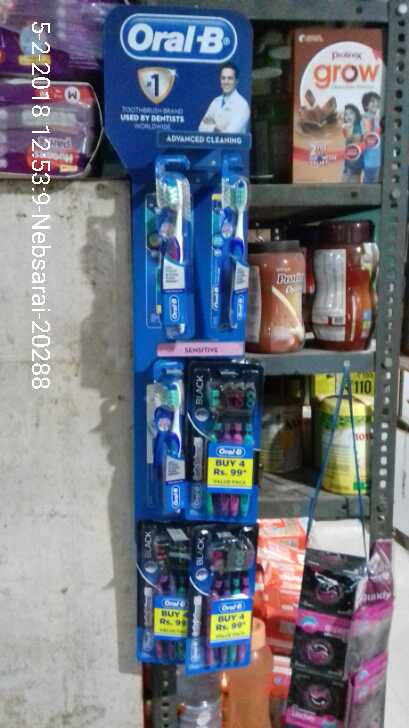oralb: (193, 524, 255, 667), (194, 379, 258, 512), (155, 175, 199, 342), (214, 172, 251, 338), (136, 527, 186, 649), (153, 378, 182, 503)
